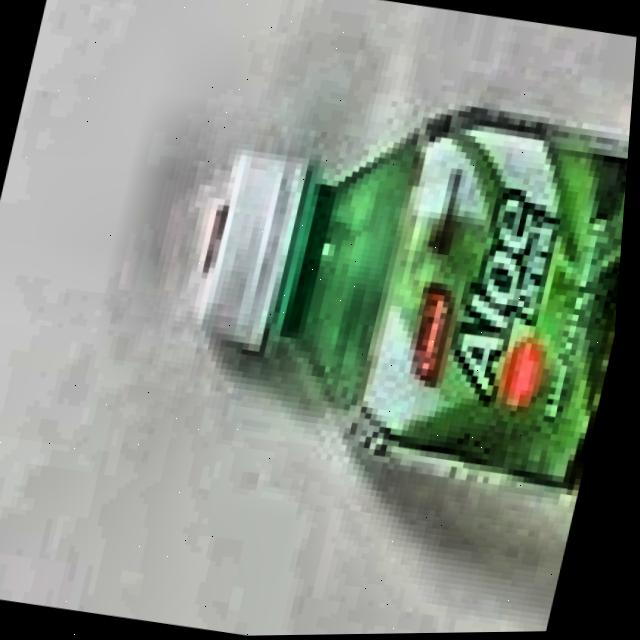plastic: (144, 51, 637, 532)
